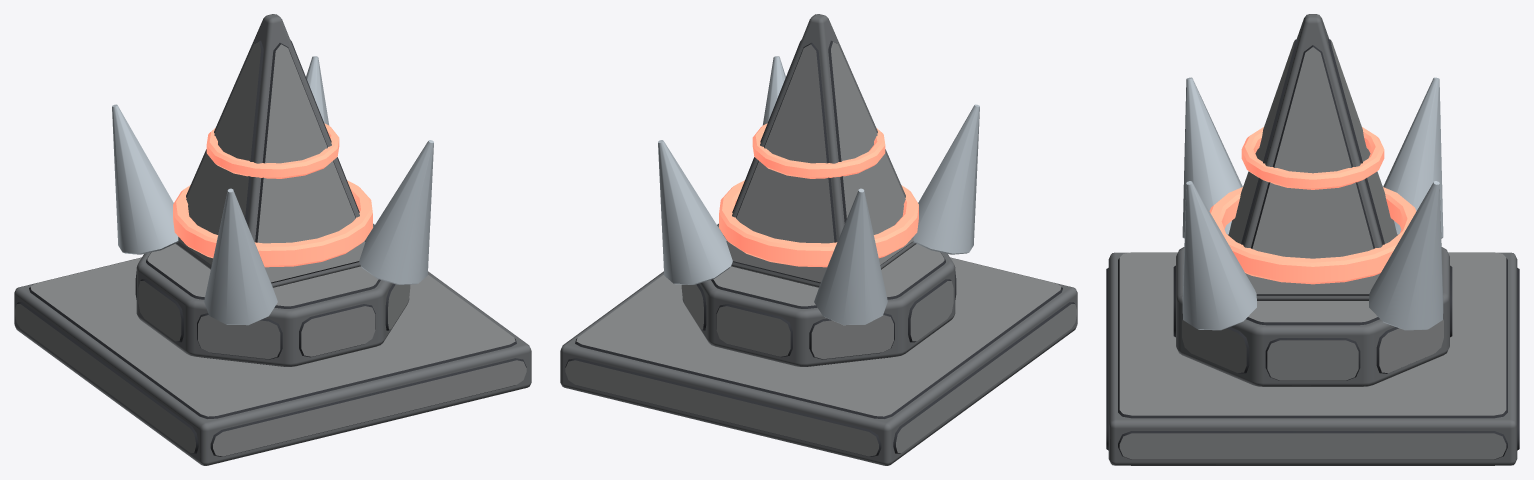
The model's file is R4X_DamageBooster.glb.
The picture shows the model from 3 angles, left to right: view 1: azimuth 30°, elevation 25°; view 2: azimuth 150°, elevation 25°; view 3: azimuth 270°, elevation 25°; orthographic projection. The views are drawn at different scales.
Visible parts, largest first — view 1: R4X_DamageBooster_Body; view 2: R4X_DamageBooster_Body; view 3: R4X_DamageBooster_Body.
Part boxes in pixels (bbox=[...]): R4X_DamageBooster_Body: bbox=[14, 14, 531, 465]; R4X_DamageBooster_Body: bbox=[560, 14, 1077, 465]; R4X_DamageBooster_Body: bbox=[1106, 14, 1519, 465].
Size of the model in its own units: 0.52 by 0.512 by 0.52.
